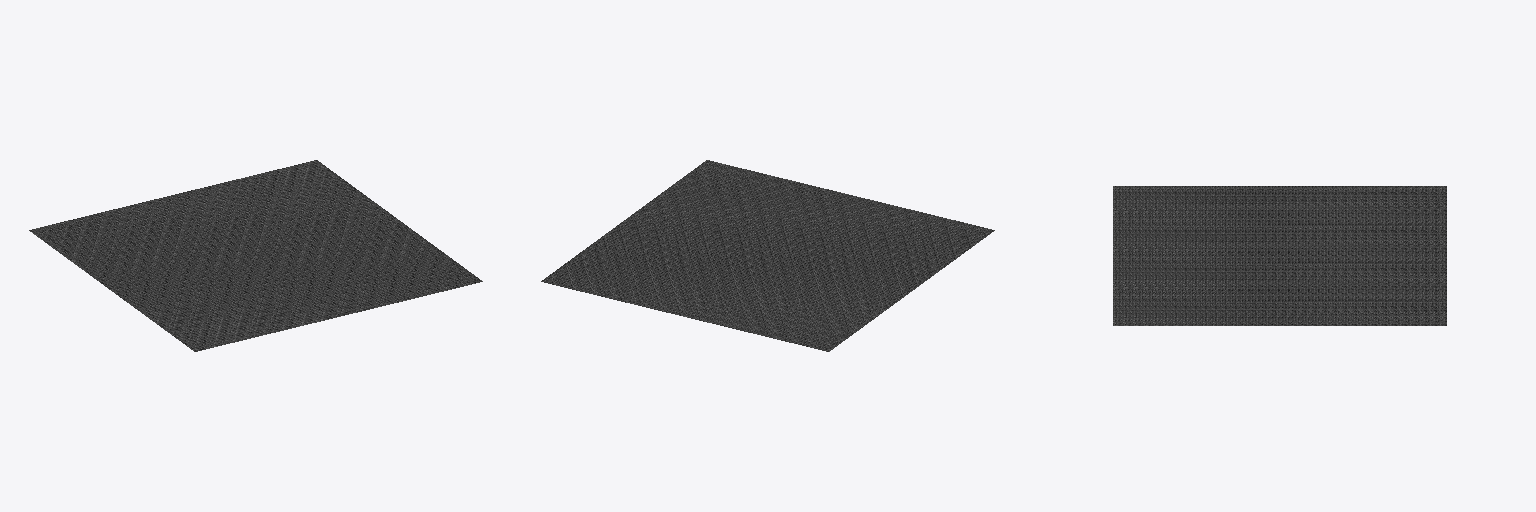
3 renders of one model, left to right at view 1: azimuth 30°, elevation 25°; view 2: azimuth 150°, elevation 25°; view 3: azimuth 270°, elevation 25°, orthographic.
Parts seen in each view (by area): view 1: Plane001; view 2: Plane001; view 3: Plane001.
Part boxes in pixels (x1,y1,x2,y2): Plane001: (29, 160, 482, 351); Plane001: (541, 160, 994, 351); Plane001: (1113, 186, 1446, 325).
Bounding box in the file's own units: 200 × 0 × 200.
1 materials, 1 textured.